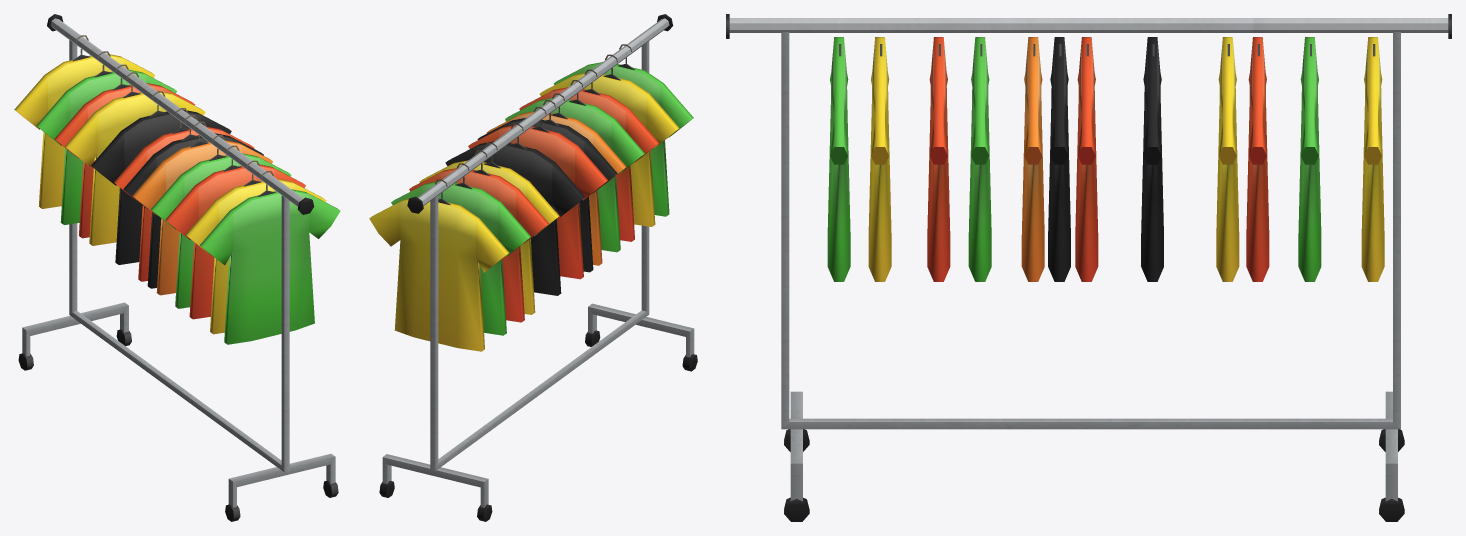
Rendered from Cloth_Rack_02.fbx.
3 renders of one model, left to right at view 1: azimuth 30°, elevation 25°; view 2: azimuth 150°, elevation 25°; view 3: azimuth 270°, elevation 25°, orthographic. The views are drawn at different scales.
Parts seen in each view (by area): view 1: Cloth_Rack_02; view 2: Cloth_Rack_02; view 3: Cloth_Rack_02.
Part boxes in pixels (x1=…): Cloth_Rack_02: x1=14, y1=14, x2=340, y2=521; Cloth_Rack_02: x1=369, y1=14, x2=697, y2=521; Cloth_Rack_02: x1=726, y1=14, x2=1451, y2=521.
Size of the model in its own units: 0.2155 by 0.4893 by 0.683.
